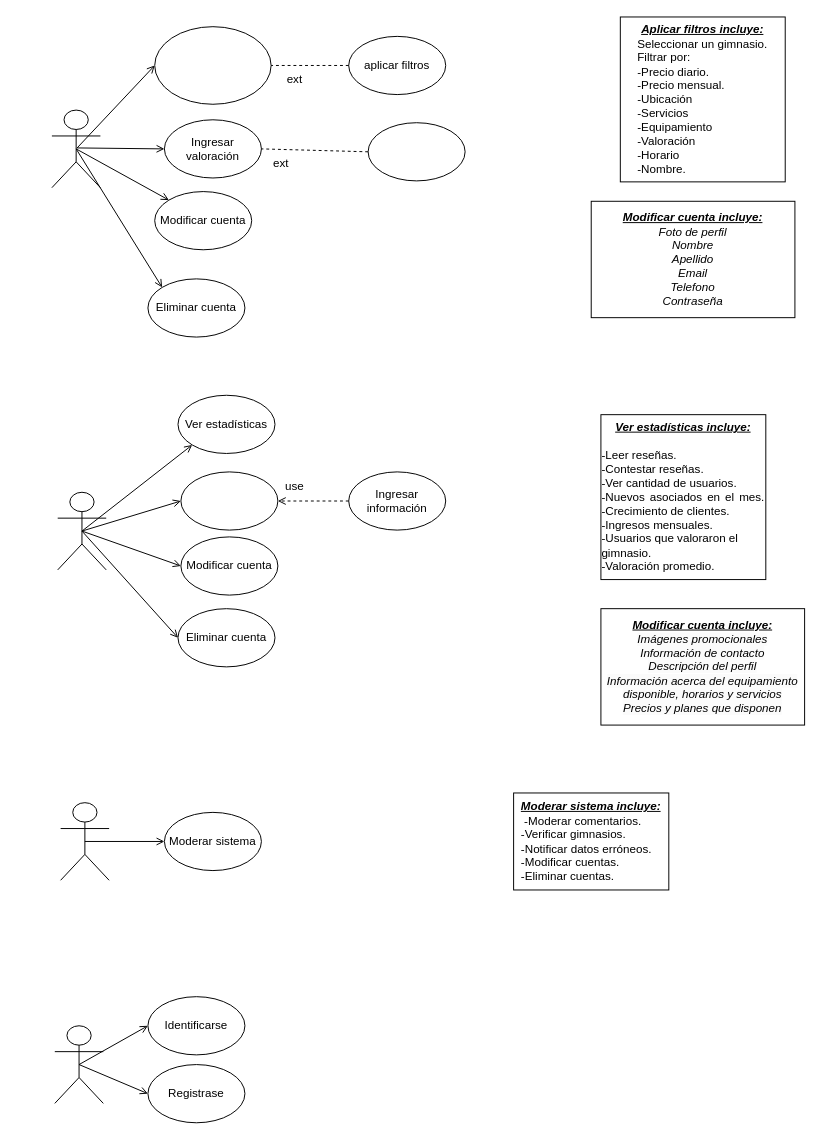
This 822x1141 diagram has some shape labels left out. Here are the shapes that lost their labels. From the top down, the box of each, then its label:
(154, 26, 271, 104): Encontrar un gimnasio
(51, 109, 100, 188): Usuario
(367, 122, 465, 181): Ingresar comentario
(180, 471, 278, 530): Ingresar nuevo gimnasio
(57, 491, 106, 570): Dueño de gimnasio
(60, 802, 109, 880): Administrador
(54, 1025, 103, 1103): Usuarios no identificado
